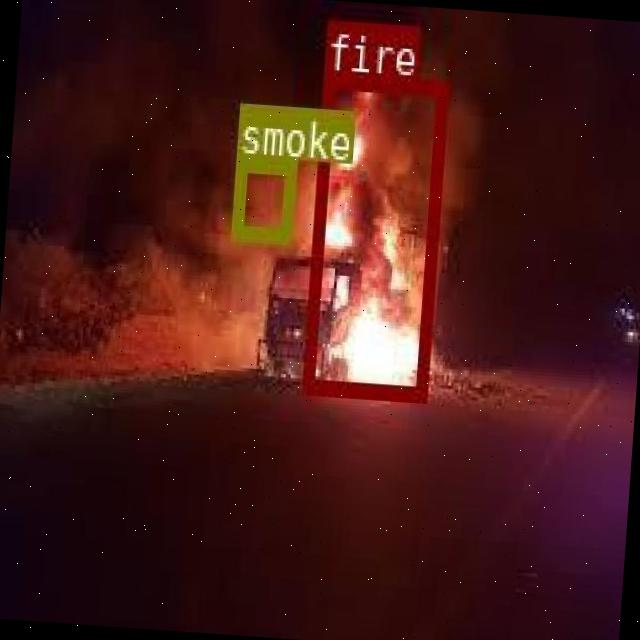fire: (300, 70, 446, 398)
smoke: (230, 154, 294, 240)
